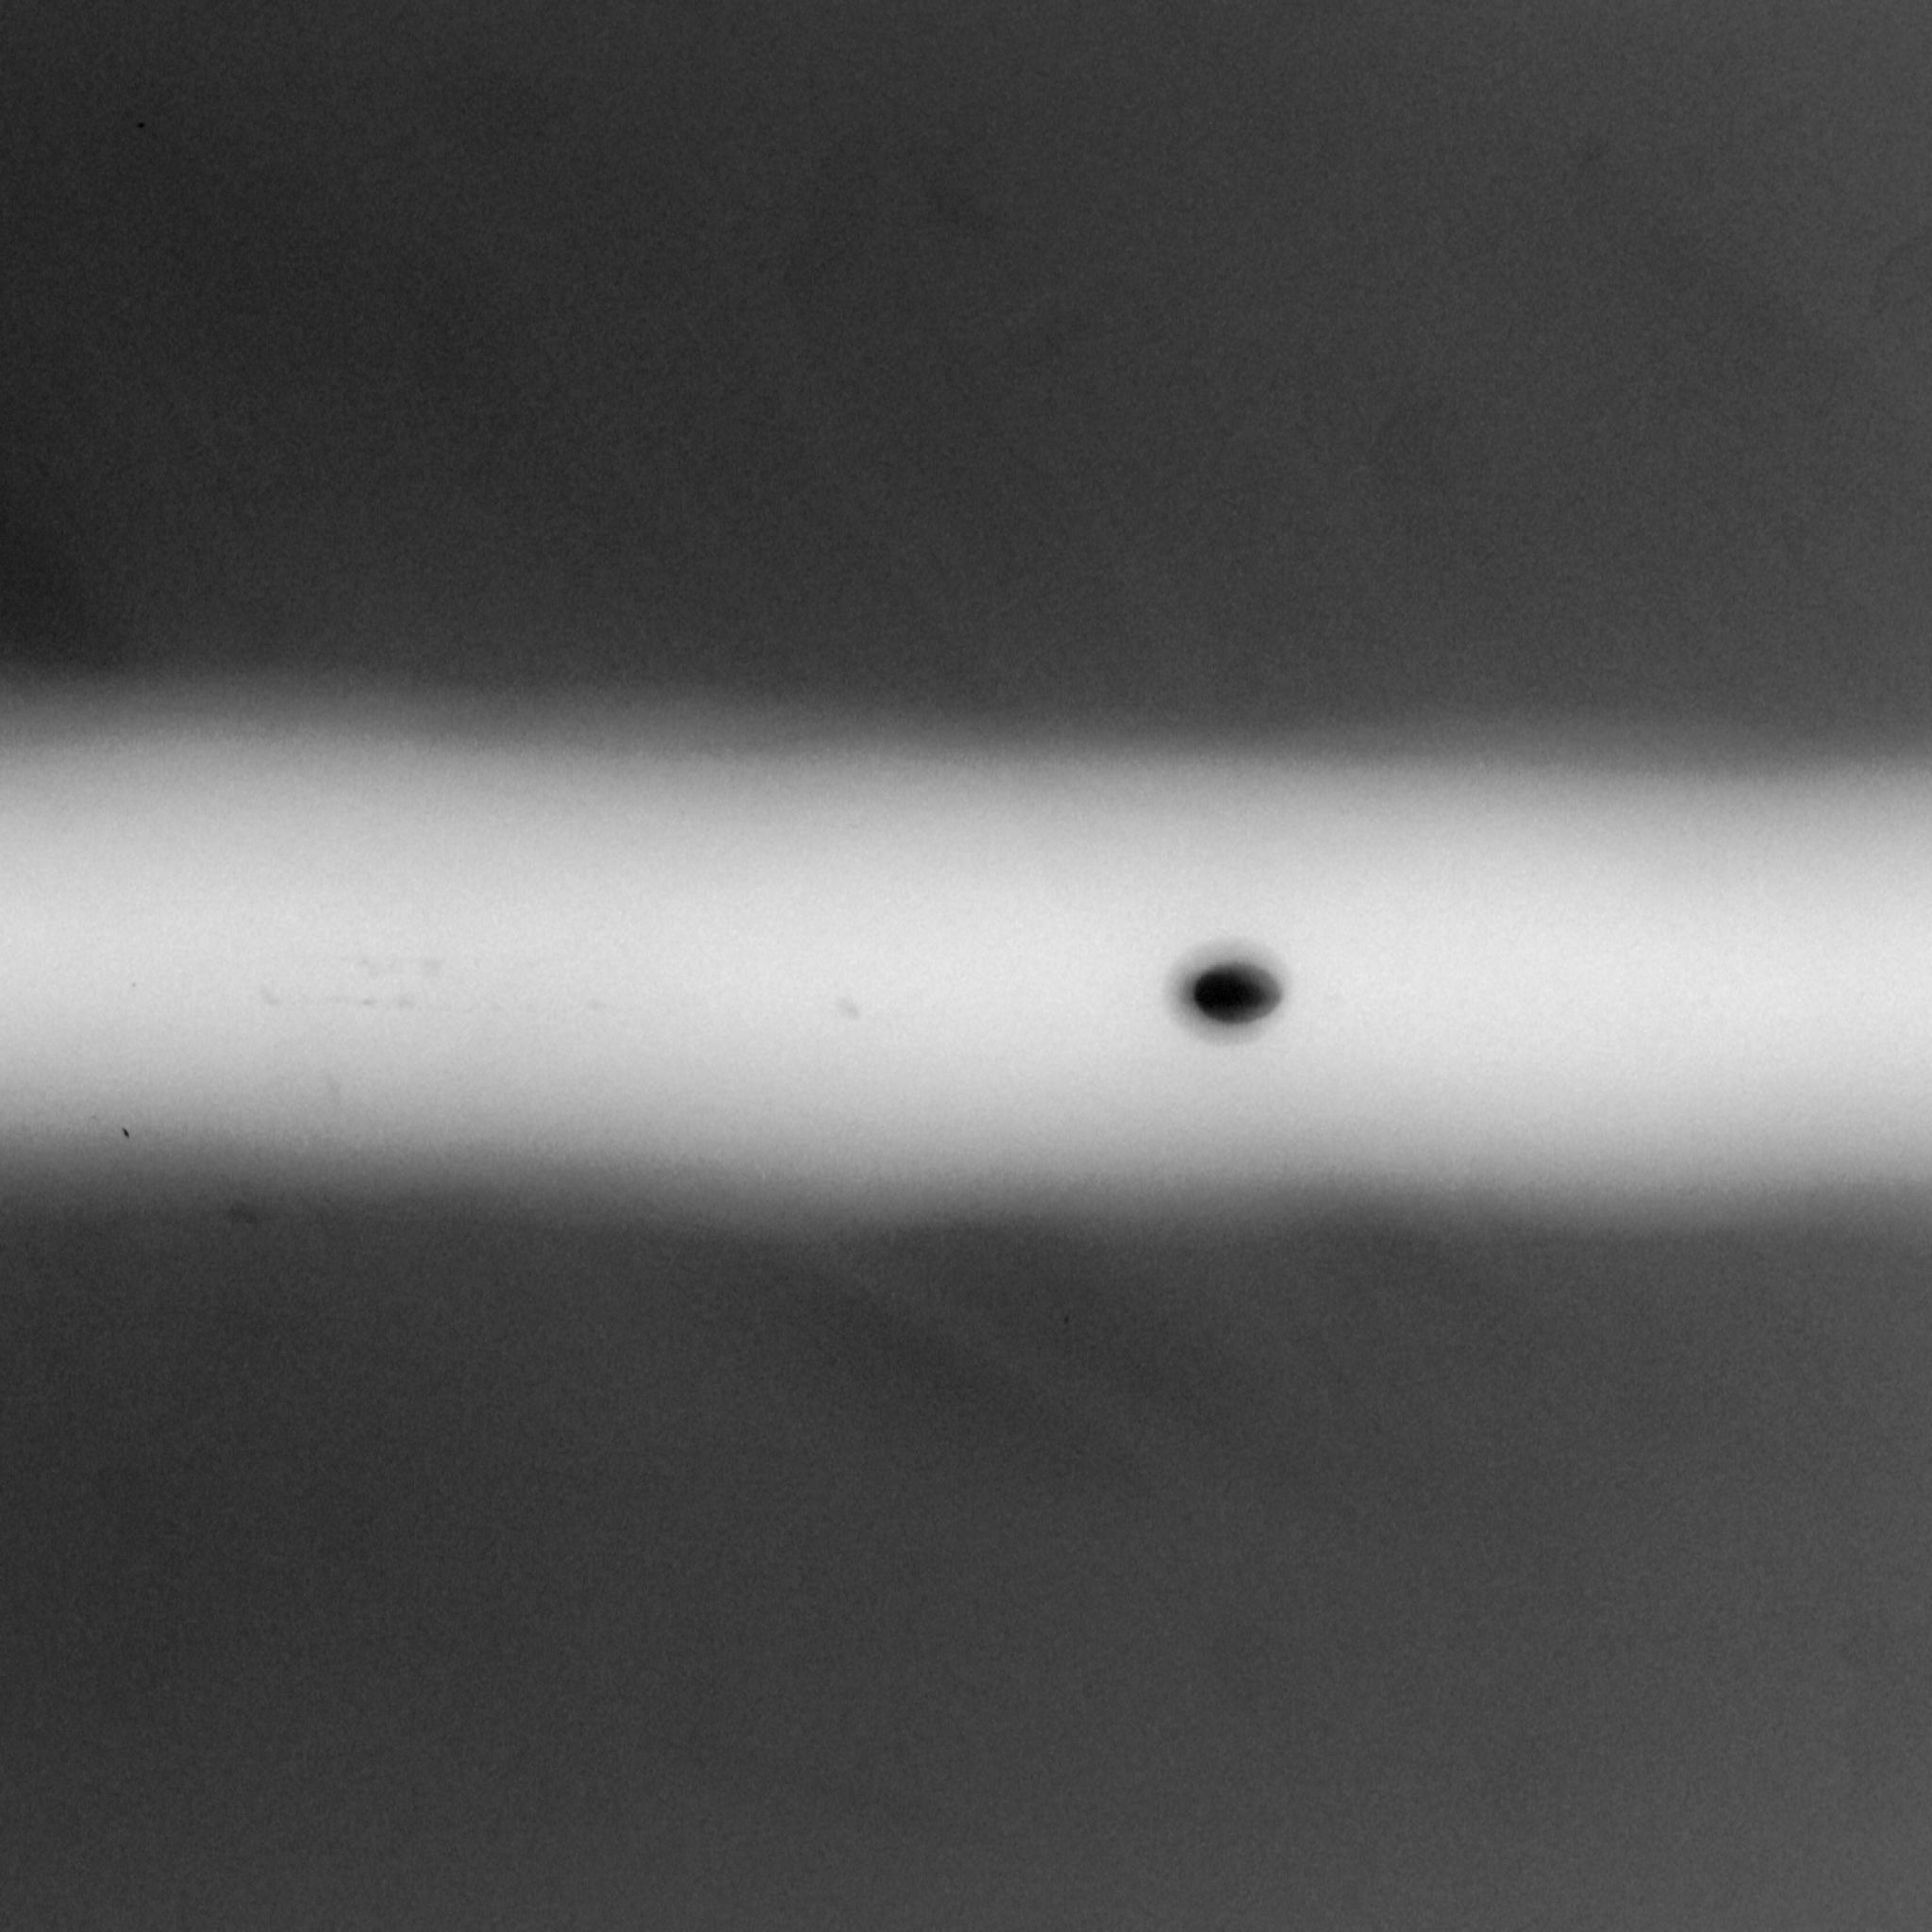FP: (228, 934, 623, 1039)
PO: (1152, 901, 1311, 1074), (830, 993, 876, 1031)
